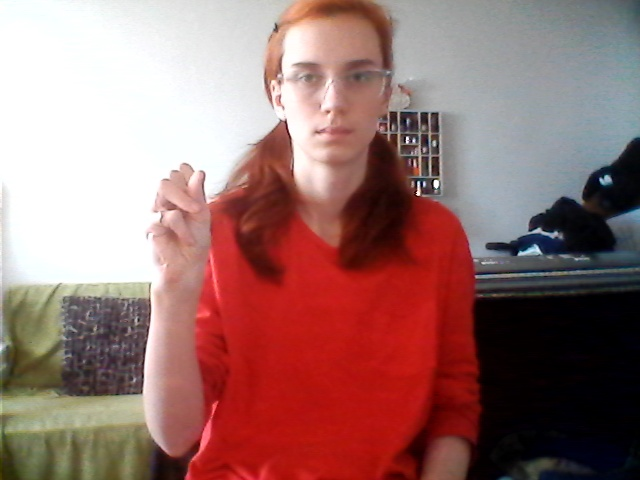r: (132, 156, 229, 296)
